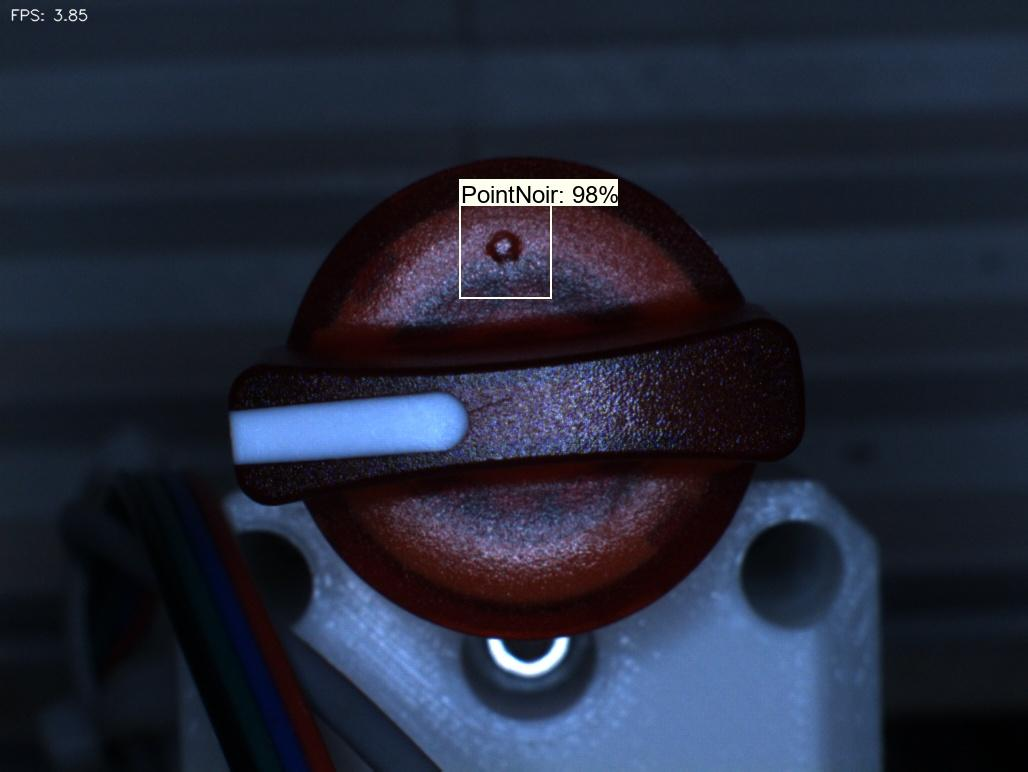Choc: (467, 215, 547, 288)
